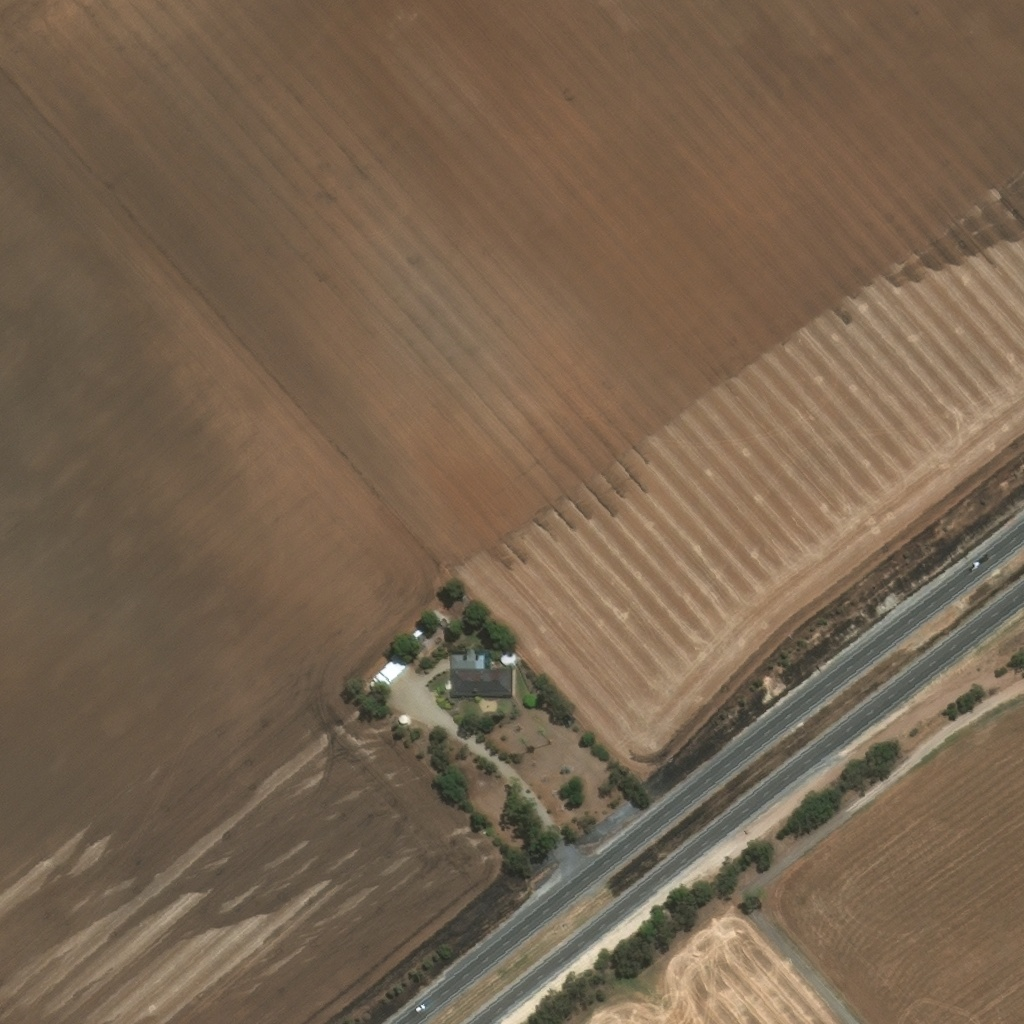0 no-damage: (449, 652, 511, 698), (380, 656, 406, 683), (496, 649, 517, 667), (372, 672, 385, 682), (439, 621, 449, 630), (442, 683, 449, 691), (368, 682, 375, 689), (413, 631, 420, 638)
